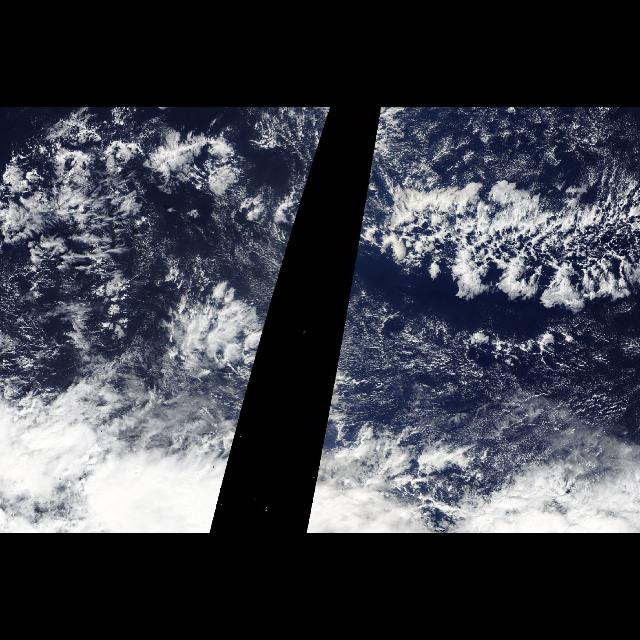Fish: (9, 120, 327, 432), (322, 120, 640, 432)
Sugar: (343, 352, 634, 511), (20, 210, 212, 412), (405, 111, 639, 179)
